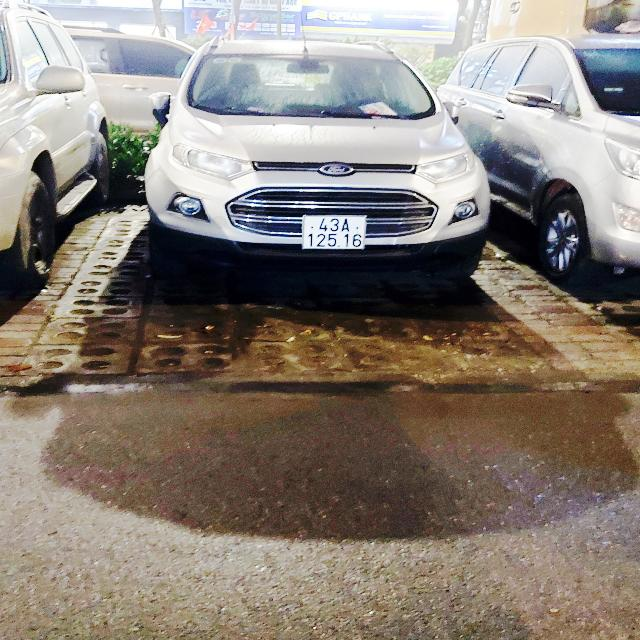license_plate: (302, 216, 368, 251)
